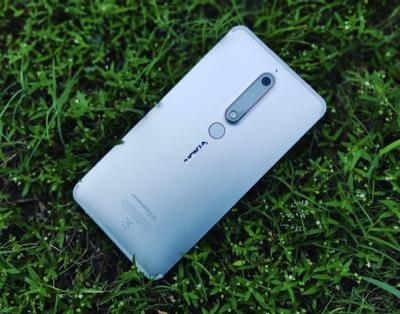cell-phone: (66, 21, 331, 288)
